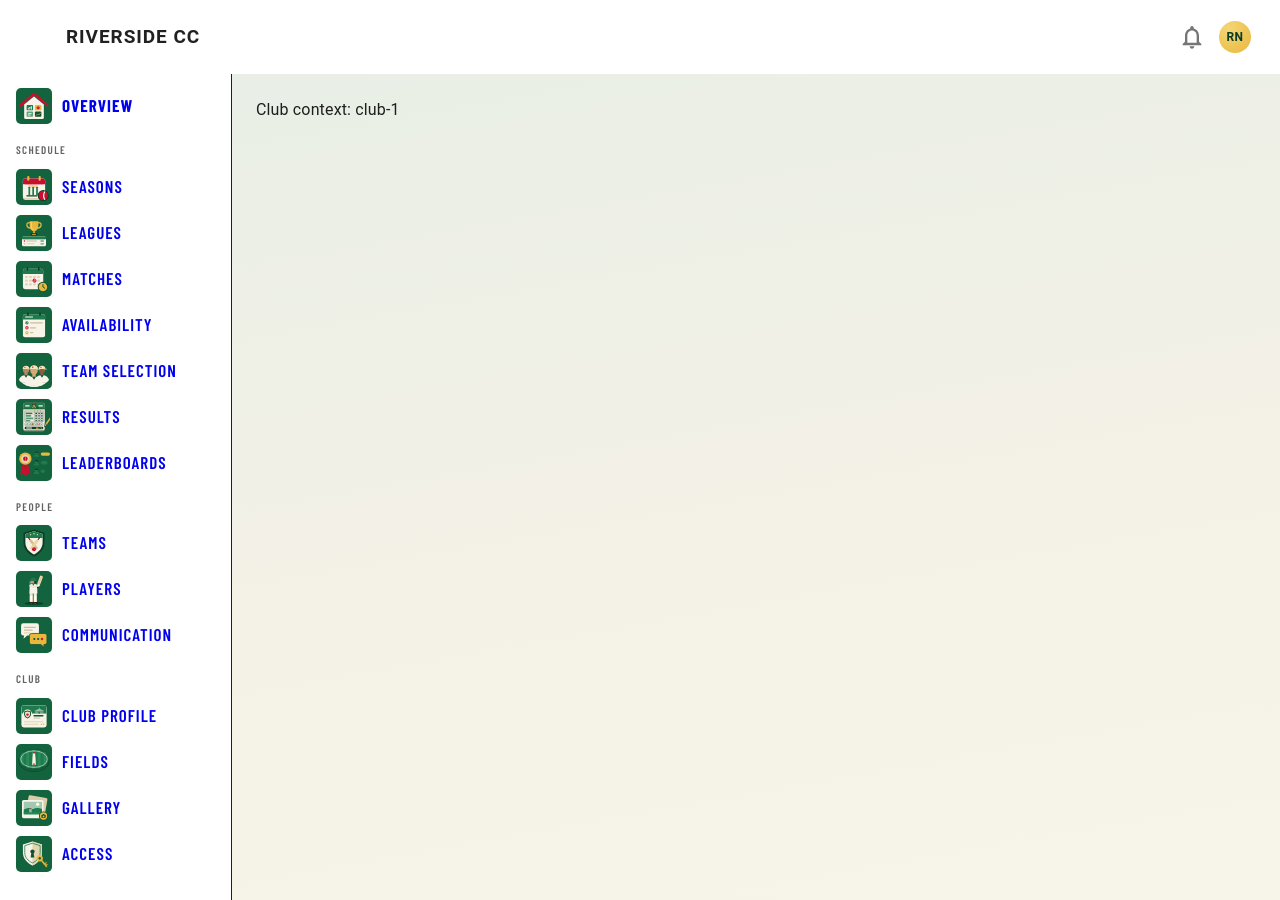
Scenario: ManagerHome › renders ManagerShell driven by the real activateSession result, not a hardcoded mock user, and threads clubAdminClubIds[0] through the Outlet context
The width and height of the screenshot is (1280, 900).
Check: the text "Club context: club-1" is shown, box [256,100,400,119]
Step 1. Click the button with aria-label "Account menu" → (1235, 37), box [1214,16,1256,58]
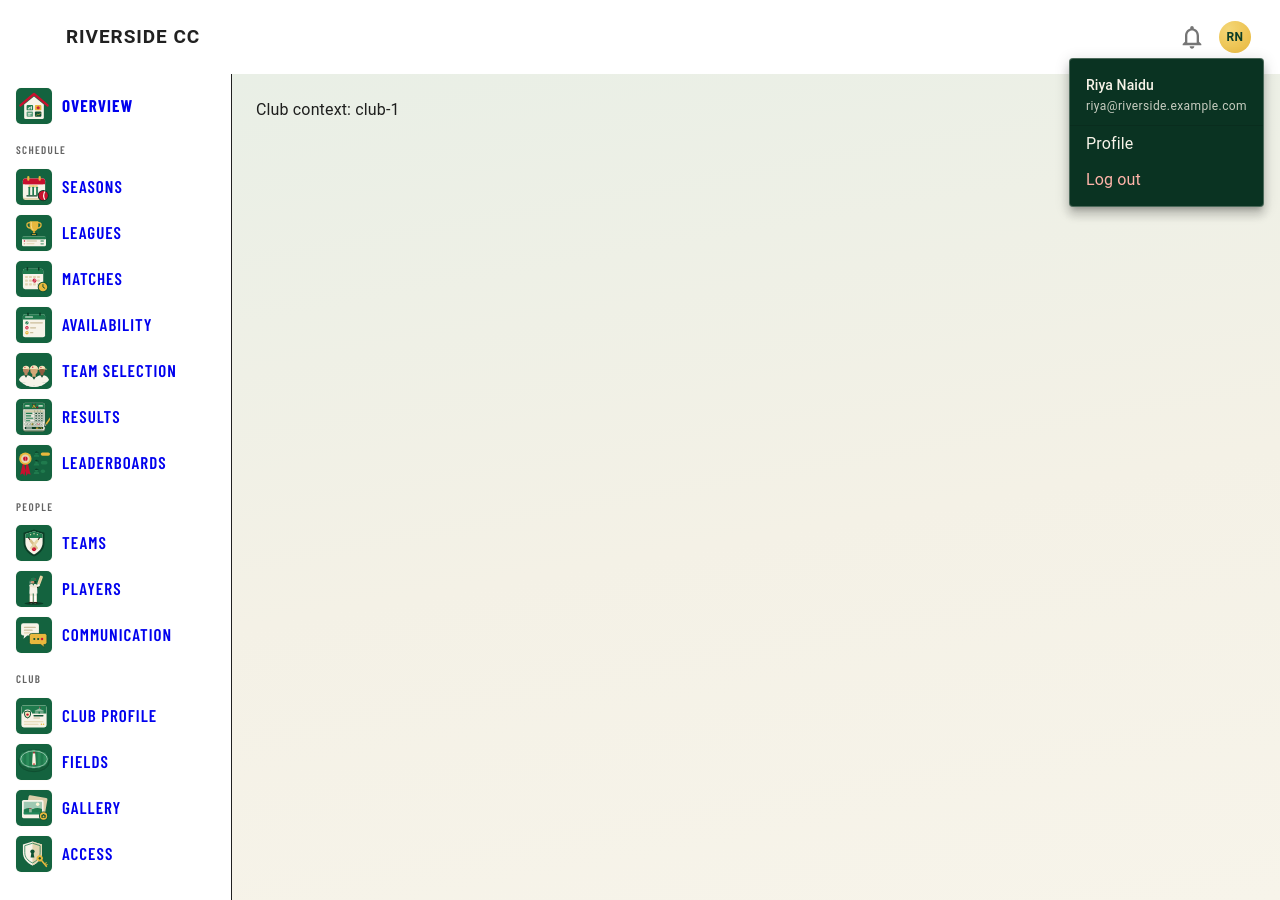
Check: the heading "Riya Naidu" is shown, box [1086,77,1154,93]
Check: the text "riya@riverside.example.com" is shown, box [1086,97,1247,117]
